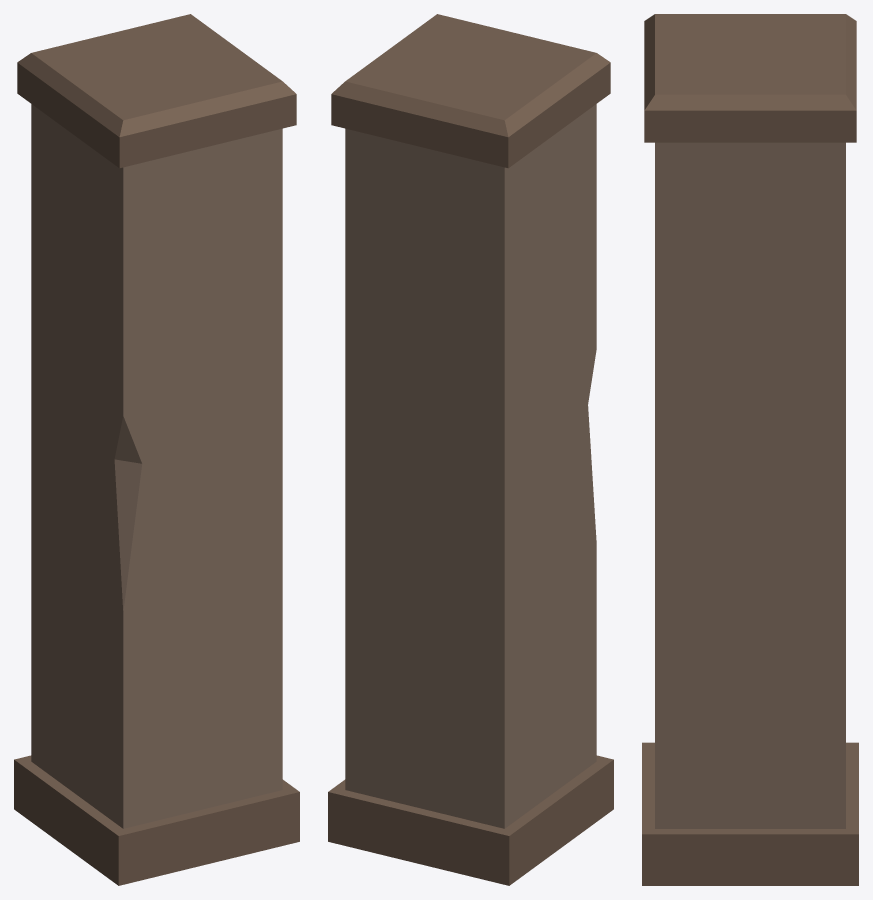
The model's file is SM_FloorProps_Fence_08.fbx.
3 renders of one model, left to right at view 1: azimuth 30°, elevation 25°; view 2: azimuth 150°, elevation 25°; view 3: azimuth 270°, elevation 25°, orthographic. The views are drawn at different scales.
Parts seen in each view (by area): view 1: SM_FloorProps_Fence_08; view 2: SM_FloorProps_Fence_08; view 3: SM_FloorProps_Fence_08.
Part boxes in pixels (<box>): SM_FloorProps_Fence_08: <box>14,14,299,885</box>; SM_FloorProps_Fence_08: <box>328,14,613,885</box>; SM_FloorProps_Fence_08: <box>642,14,858,885</box>.
Bounding box in the file's own units: 0.5 × 2 × 0.5.
